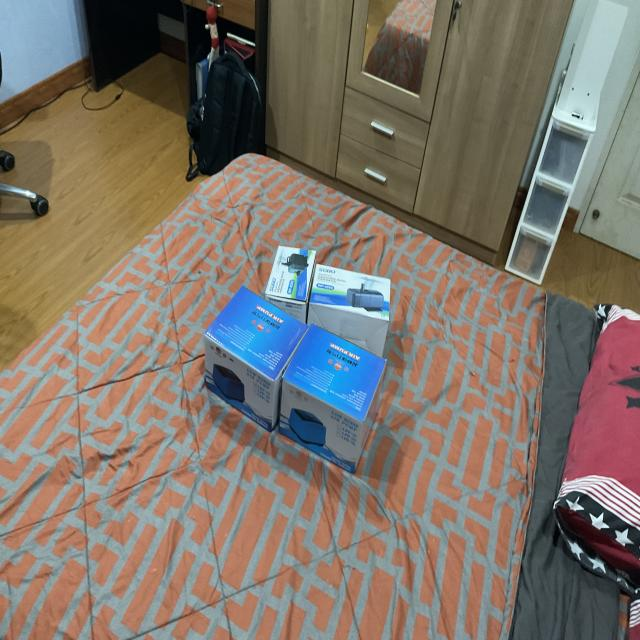SOBO_WP_4200: (305, 262, 410, 364), (254, 225, 316, 325)
YAMANO_LPP_20: (280, 322, 404, 486), (196, 271, 306, 435)
